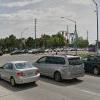cars: (38, 52, 86, 82), (0, 62, 40, 87)
